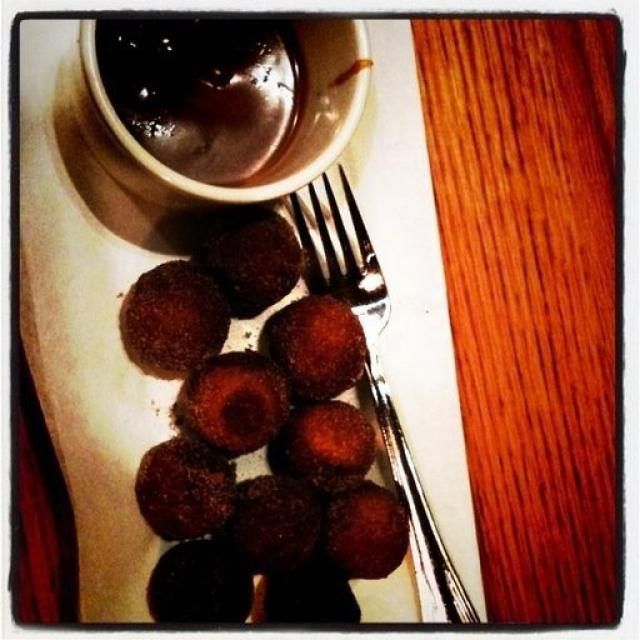Donuts: (120, 196, 404, 640)
